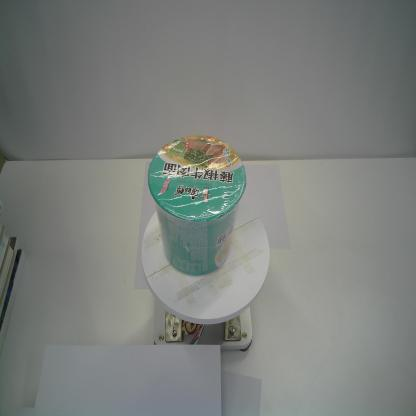Instant Noodles: (146, 133, 247, 277)
